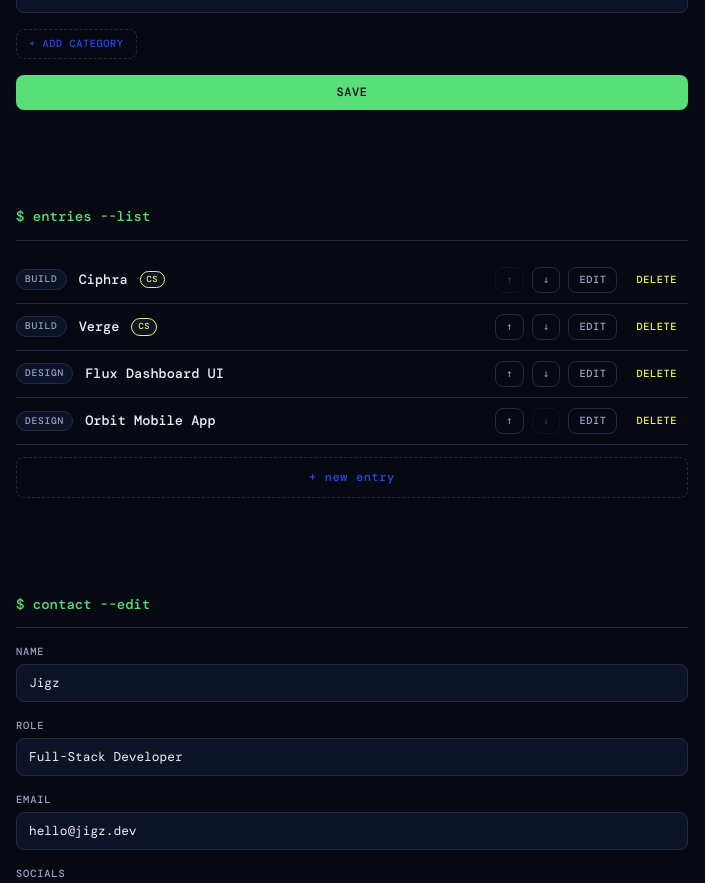
it: ConsolePage › can open new entry form
The image size is (705, 883).
(page scrolled)
Click the button "+ new entry".
click(352, 477)  # box 16,457 -> 688,498
(page scrolled)
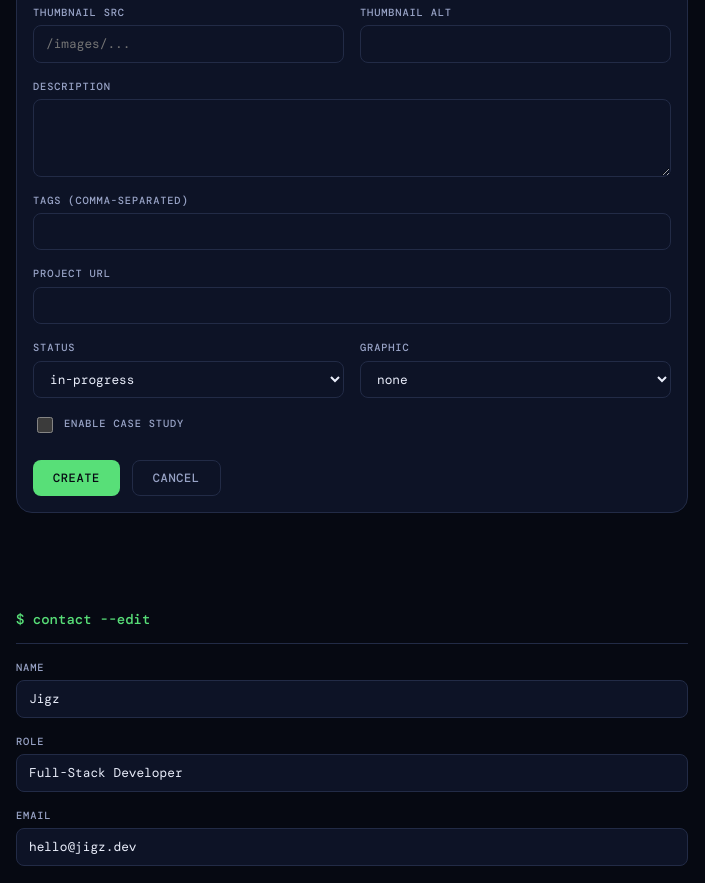
Now the button "create" is shown, box 33,460 -> 120,496
Now the button "cancel" is shown, box 132,460 -> 221,496
